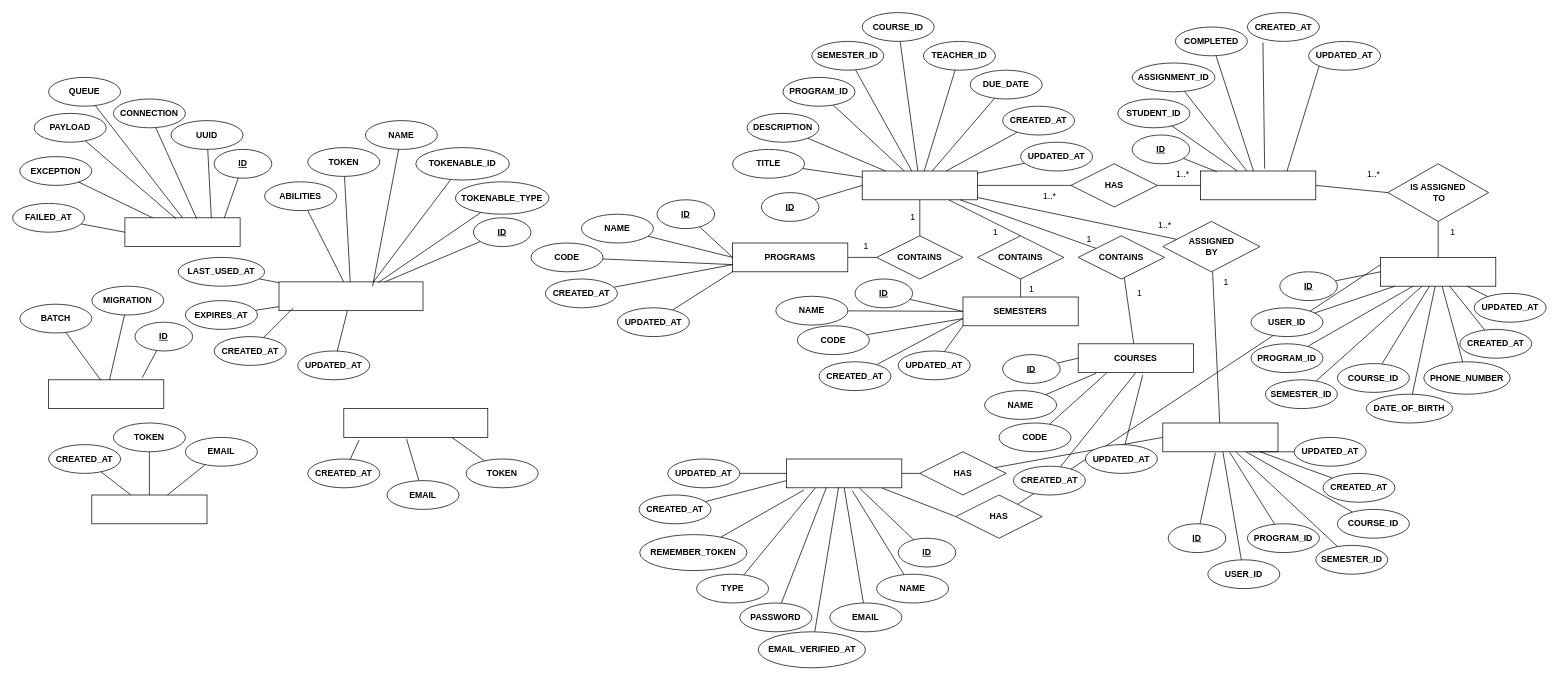
The diagram is 1559 pixels wide and 680 high, and some of its shapes have lost their labels. The centre of each missing label's shape, as x and y in pixels:
ASSIGNMENT_STUDENTS: the point at 1258,185
ASSIGNMENTS: the point at 919,185
FAILED_JOBS: the point at 182,232
MIGRATIONS: the point at 106,394
PASSWORD_RESET_TOKENS: the point at 415,422
PASSWORD_RESETS: the point at 149,509
PERSONAL_ACCESS_TOKENS: the point at 350,296
STUDENTS: the point at 1438,271
TEACHER: the point at 1220,437
USERS: the point at 844,473
